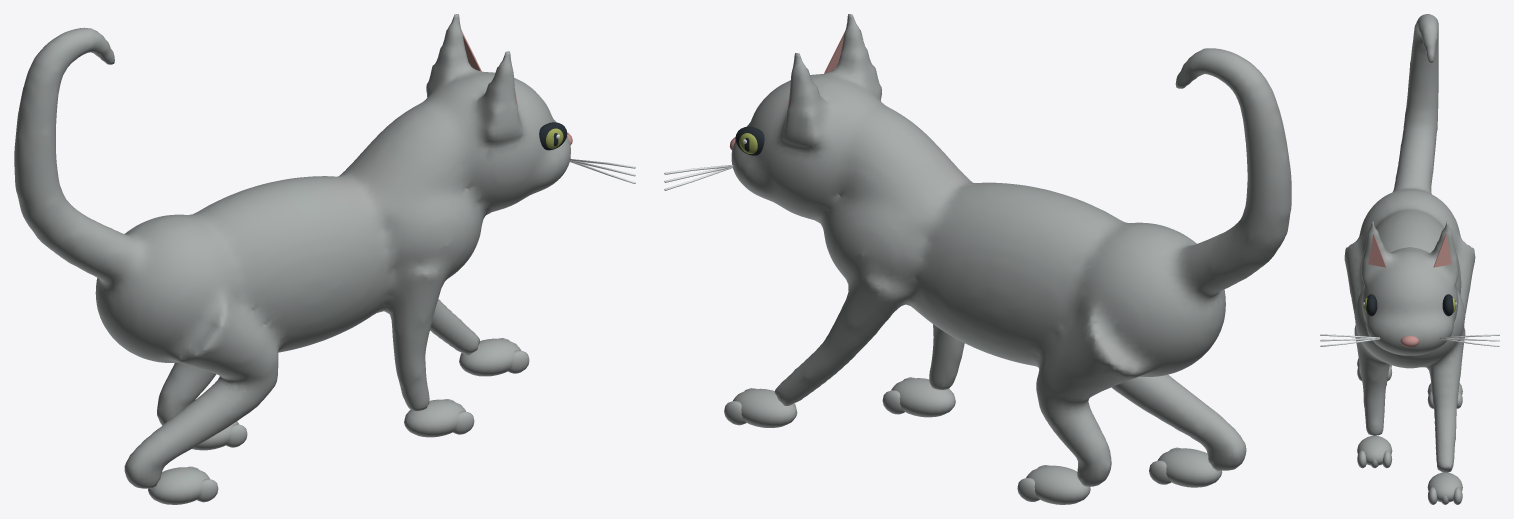
The model's file is nature-cat-walking.glb.
3 renders of one model, left to right at view 1: azimuth 30°, elevation 25°; view 2: azimuth 150°, elevation 25°; view 3: azimuth 270°, elevation 25°, orthographic. The views are drawn at different scales.
Parts seen in each view (by area): view 1: Continuous anatomical skin, Rounded paw, Rounded paw.001, Rounded paw.002; view 2: Continuous anatomical skin, Rounded paw.003, Rounded paw, Rounded paw.001, Rounded paw.002; view 3: Continuous anatomical skin, Rounded paw, Rounded paw.002, Pink inner pinna fitted to skin, Pink inner pinna fitted to skin.001.
Part boxes in pixels (box(x1,y1,x2,y2)): Continuous anatomical skin: box(14, 14, 570, 488); Rounded paw: box(404, 399, 465, 437); Rounded paw.001: box(148, 467, 209, 504); Rounded paw.002: box(459, 338, 520, 376); Continuous anatomical skin: box(731, 14, 1291, 486); Rounded paw.003: box(1026, 465, 1090, 504); Rounded paw: box(891, 378, 955, 417); Rounded paw.001: box(1157, 448, 1222, 487); Rounded paw.002: box(733, 388, 797, 427); Continuous anatomical skin: box(1344, 14, 1475, 472); Rounded paw: box(1357, 435, 1392, 465); Rounded paw.002: box(1427, 472, 1462, 502); Pink inner pinna fitted to skin: box(1368, 234, 1386, 267); Pink inner pinna fitted to skin.001: box(1433, 234, 1451, 267).
Size of the model in its own units: 0.5364 by 0.43 by 0.2101.
5 materials, 5 textured.
